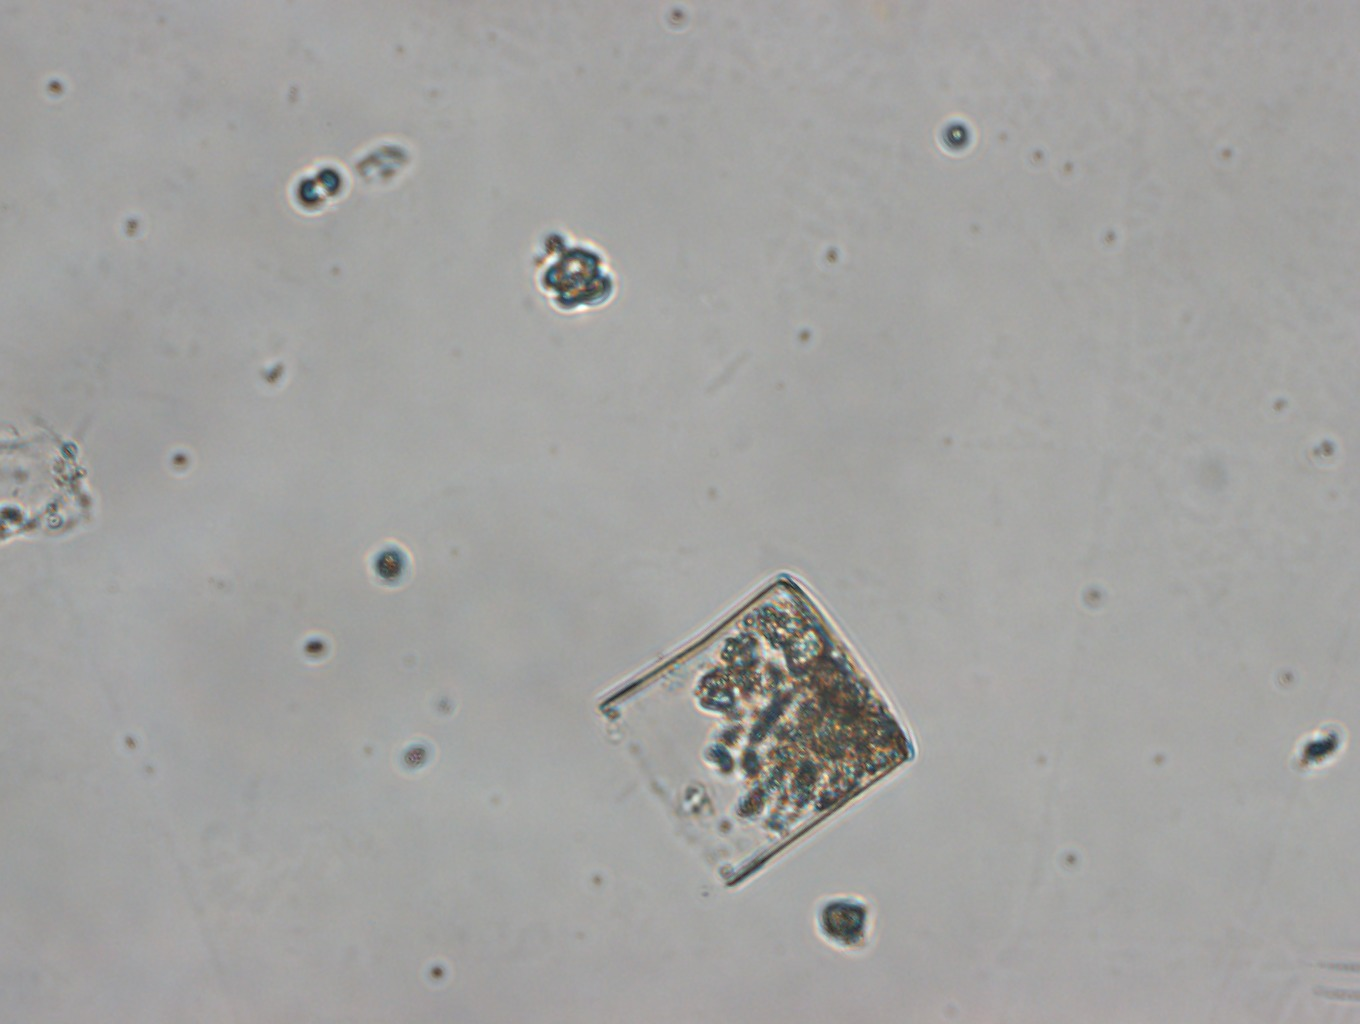guinardia flaccida: (597, 574, 915, 886)
